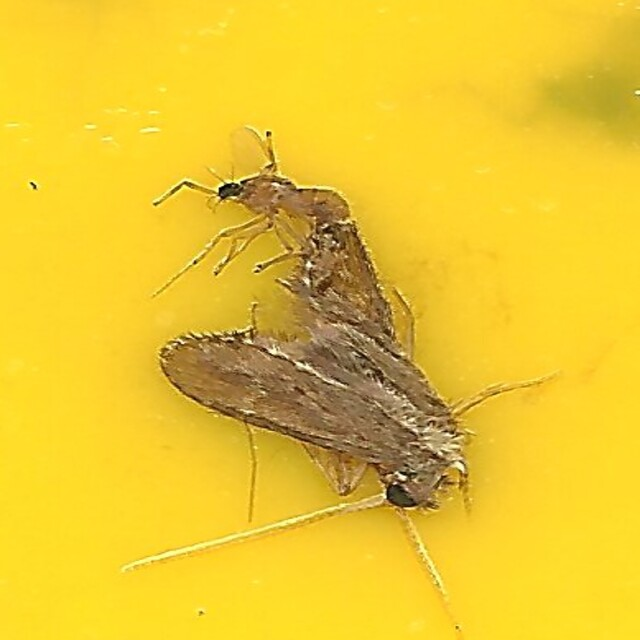Nematocera: (189, 127, 360, 241)
Trichoptera: (165, 229, 475, 513)
